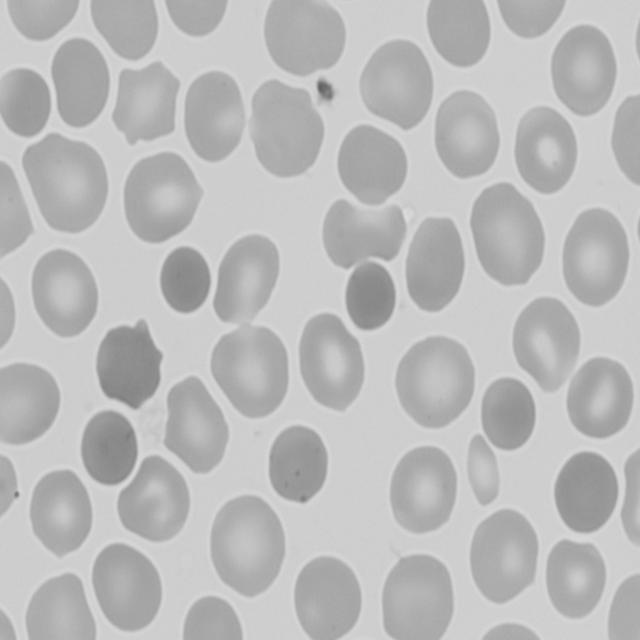RBC: (22, 132, 113, 236), (389, 334, 476, 436), (206, 493, 289, 599), (468, 183, 548, 291), (117, 148, 202, 246), (247, 77, 324, 184), (211, 323, 291, 423), (559, 205, 635, 309), (296, 310, 372, 414), (508, 292, 584, 394), (466, 506, 543, 606), (356, 34, 436, 130), (28, 244, 103, 344), (89, 536, 164, 634), (160, 371, 230, 476), (400, 212, 469, 316), (548, 21, 620, 120), (177, 65, 248, 165), (118, 453, 194, 546), (262, 0, 348, 81), (376, 553, 456, 640), (388, 441, 461, 536), (431, 88, 504, 182), (332, 119, 410, 206), (565, 355, 637, 447), (109, 56, 180, 148), (210, 232, 280, 325), (49, 32, 114, 130), (292, 553, 365, 640), (512, 103, 580, 196), (541, 533, 611, 623), (28, 467, 95, 560), (95, 318, 163, 407), (0, 360, 64, 451), (24, 571, 98, 640), (431, 0, 494, 76), (0, 66, 56, 142), (92, 0, 158, 60), (2, 0, 84, 45), (487, 0, 572, 42), (0, 167, 37, 256), (180, 593, 248, 640), (612, 85, 640, 194), (156, 0, 230, 38), (617, 438, 640, 558), (608, 569, 640, 640), (1, 260, 22, 360)
Spherocyte: (552, 446, 622, 536), (263, 420, 332, 506), (77, 402, 144, 489), (478, 370, 540, 452), (154, 238, 212, 316), (340, 261, 398, 332)
